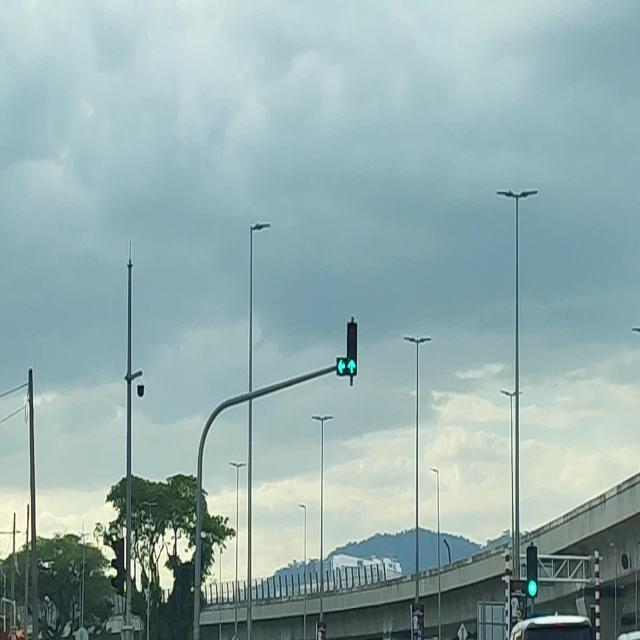green_light: (336, 322, 348, 374), (526, 545, 538, 596), (347, 321, 356, 375)
